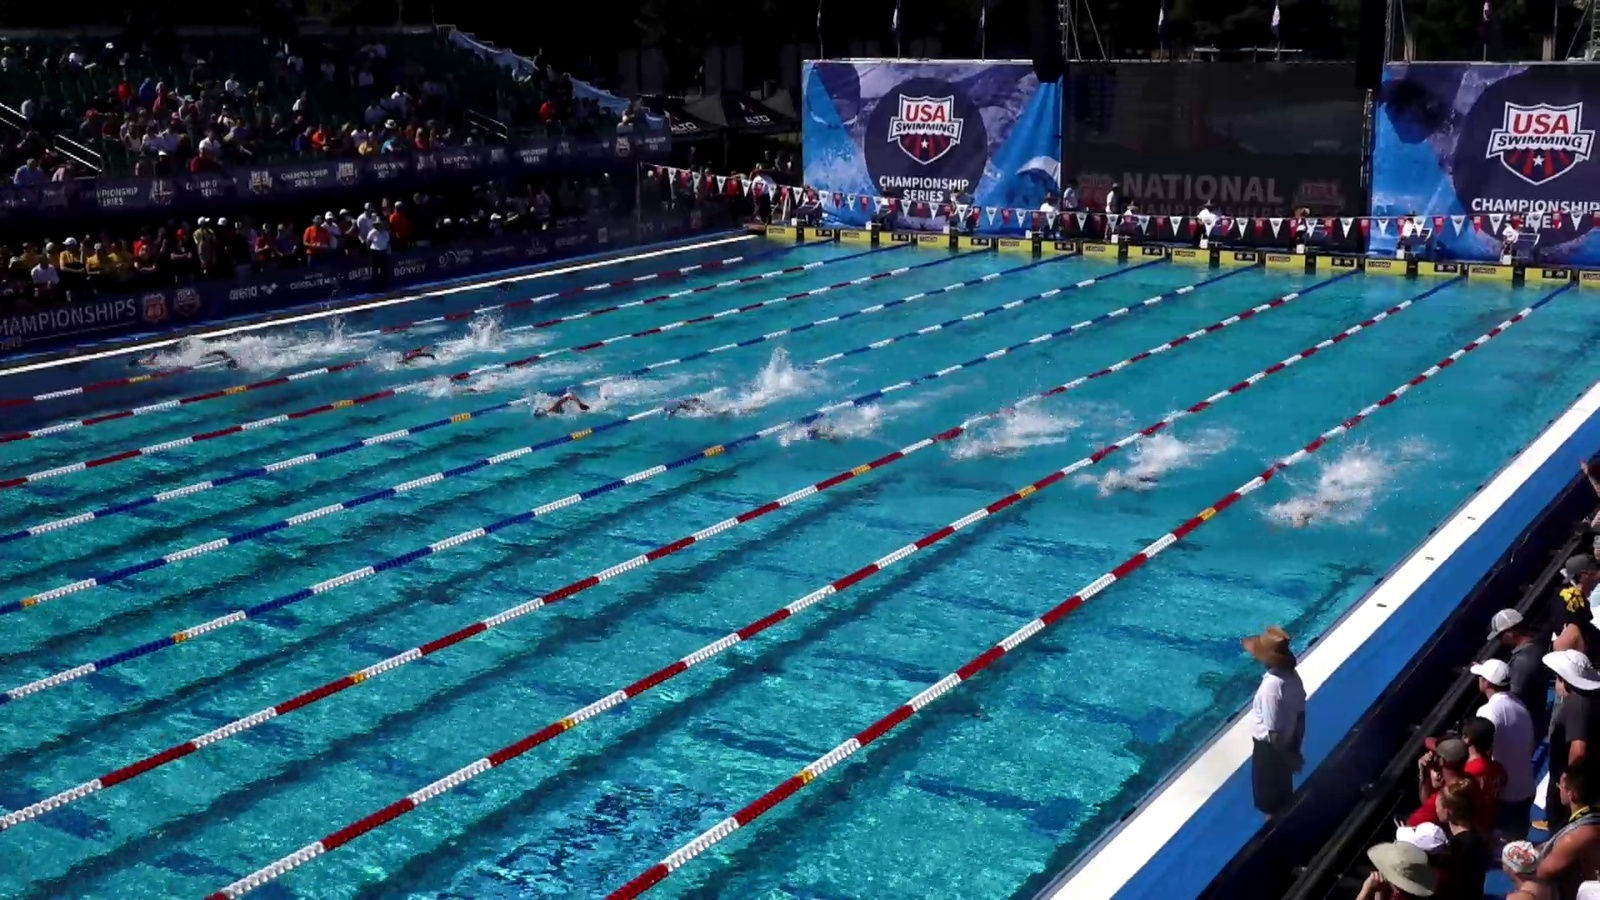swimmerw: (778, 405, 881, 451), (953, 413, 1049, 460), (1095, 451, 1179, 501), (1287, 473, 1349, 535), (527, 392, 623, 427), (662, 395, 766, 421), (203, 349, 286, 373), (386, 349, 465, 370), (433, 379, 499, 402), (130, 347, 199, 368)
